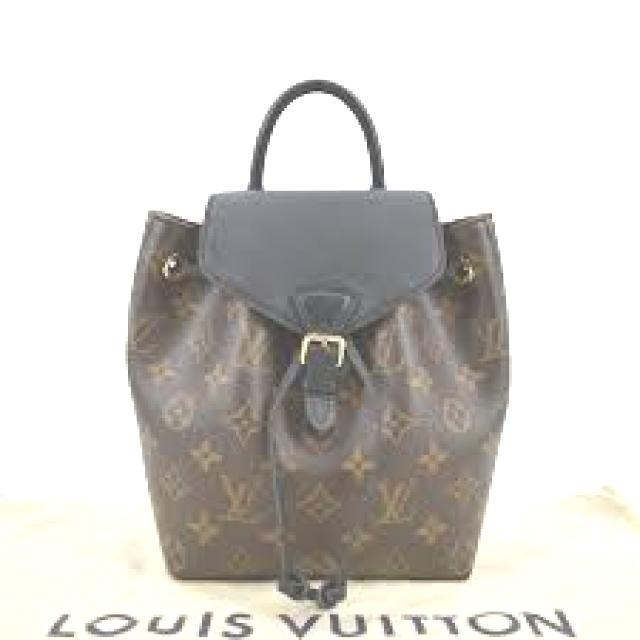backpack: (123, 78, 513, 604)
